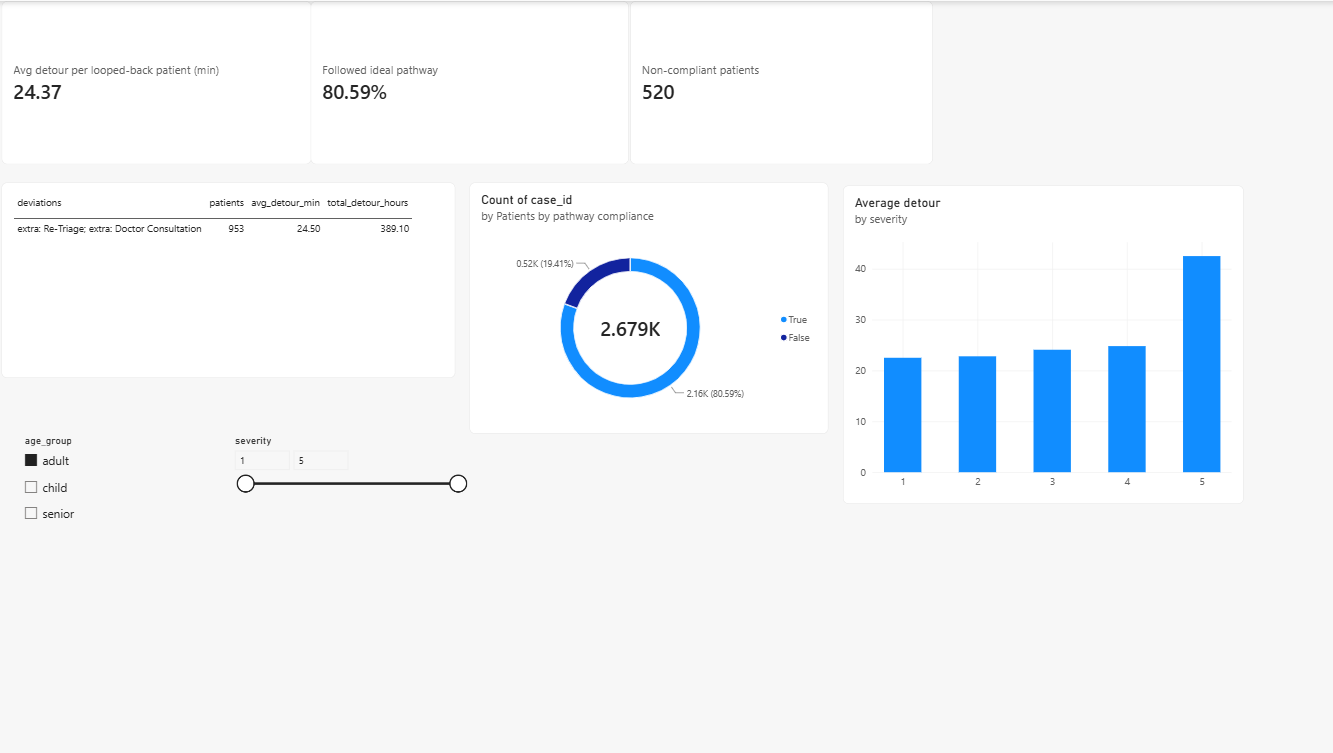

The page's visual inventory and layout, read from the dashboard file:
{"tool":"powerbi","page":{"name":"Page 3","canvas":[1920,1080],"ordinal":2},"visuals":[{"type":"cardVisual","fields":{"Data":["Avg(conformance_cases (2).detour_minutes)"]},"box":[10,0,444,234],"z":0},{"type":"cardVisual","fields":{"Data":["conformance_cases (2).Followed ideal path %"]},"box":[454,0,456,234],"z":1},{"type":"cardVisual","fields":{"Data":["conformance_cases (2).Non-compliant patients"]},"box":[910,0,434,234],"z":2},{"type":"donutChart","fields":{"Category":["conformance_cases (2).is_compliant"],"Y":["Count(conformance_cases (2).case_id)"]},"box":[682,260,514,360],"z":3},{"type":"tableEx","fields":{"Values":["deviation_summary.deviations","deviation_summary.patients","deviation_summary.avg_detour_min","deviation_summary.total_detour_hours"]},"box":[10,260,650,280],"z":4},{"type":"lineClusteredColumnComboChart","fields":{"Category":["conformance_cases (2).severity"],"Y":["Avg(conformance_cases (2).detour_minutes)"]},"box":[1216,264,574,456],"z":5},{"type":"slicer","fields":{"Values":["conformance_cases (2).age_group"]},"box":[36,622,302,276],"z":6},{"type":"slicer","fields":{"Values":["conformance_cases (2).severity"]},"box":[338,620,344,140],"z":7}]}

Visuals, with their boxes in screenshot pixels (x1, y1, x2, y2), scaled from the page's 1920x1080 canvas onto the 1333x753 screenshot:
cardVisual - Avg(conformance_cases (2).detour_minutes): bbox=(7, 0, 315, 163)
cardVisual - conformance_cases (2).Followed ideal path %: bbox=(315, 0, 632, 163)
cardVisual - conformance_cases (2).Non-compliant patients: bbox=(632, 0, 933, 163)
donutChart - conformance_cases (2).is_compliant x Count(conformance_cases (2).case_id): bbox=(473, 181, 830, 432)
tableEx - deviation_summary.deviations x deviation_summary.patients: bbox=(7, 181, 458, 376)
lineClusteredColumnComboChart - conformance_cases (2).severity x Avg(conformance_cases (2).detour_minutes): bbox=(844, 184, 1243, 502)
slicer - conformance_cases (2).age_group: bbox=(25, 434, 235, 626)
slicer - conformance_cases (2).severity: bbox=(235, 432, 473, 530)
